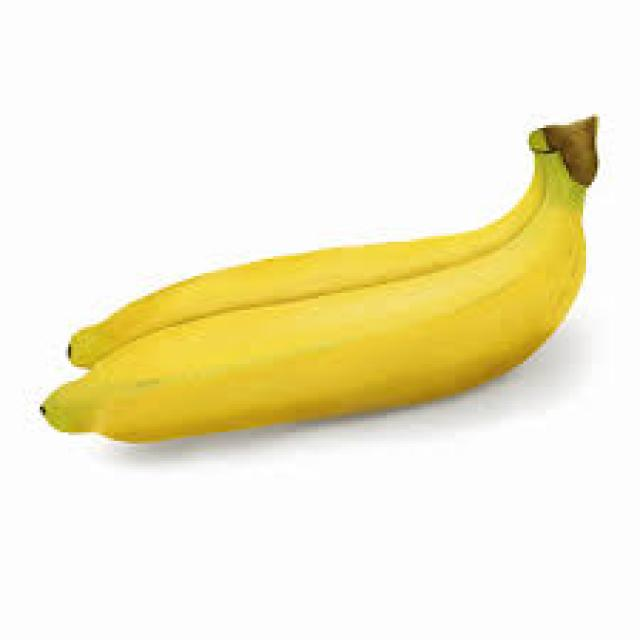banana: (37, 111, 597, 444)
